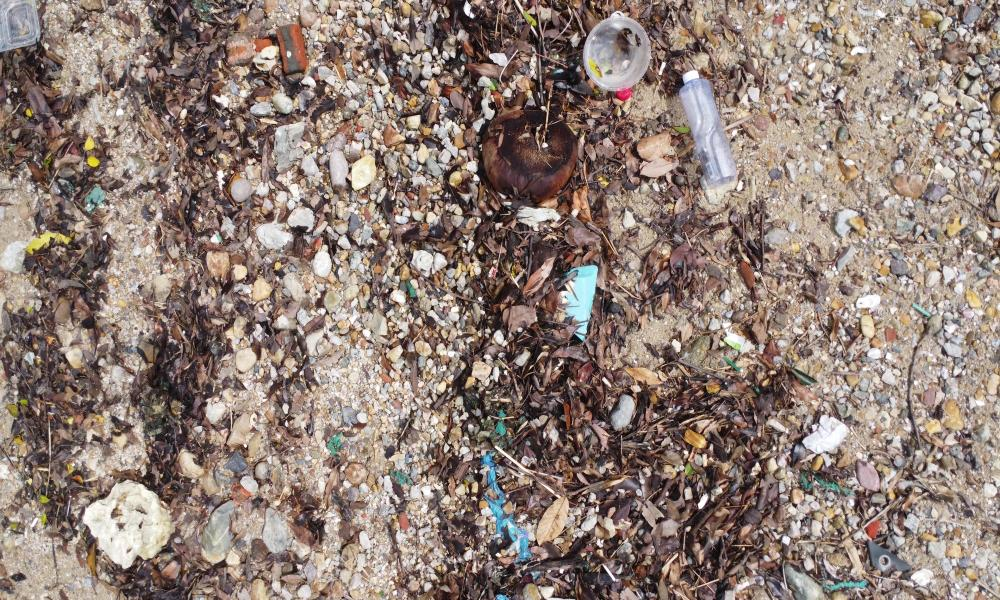plastic bag: (74, 475, 176, 567)
plastic bottle: (676, 61, 742, 193)
plastic container: (575, 9, 654, 95), (0, 0, 45, 60)
